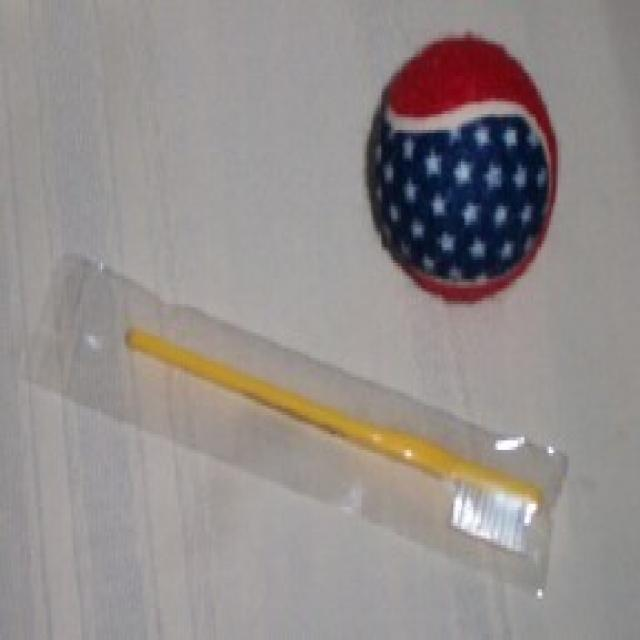Tennis Ball: (364, 35, 558, 304)
